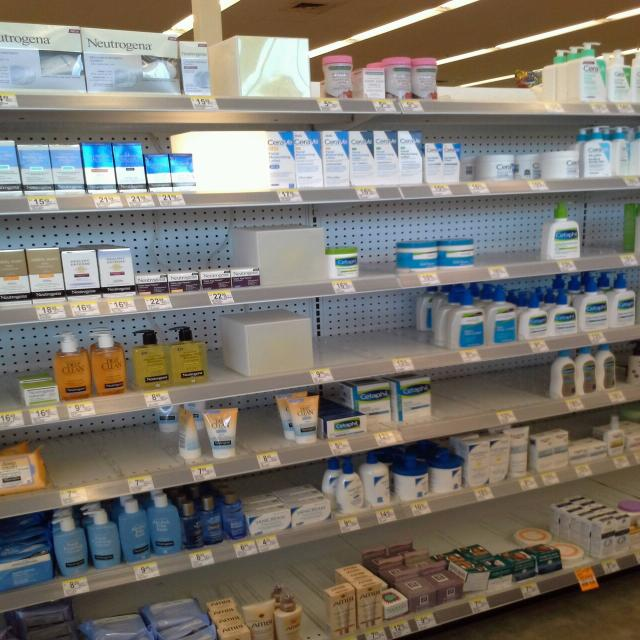void: (49, 415, 160, 484), (322, 295, 417, 361), (438, 358, 539, 413), (456, 54, 541, 99), (479, 208, 532, 262), (366, 222, 394, 272)
